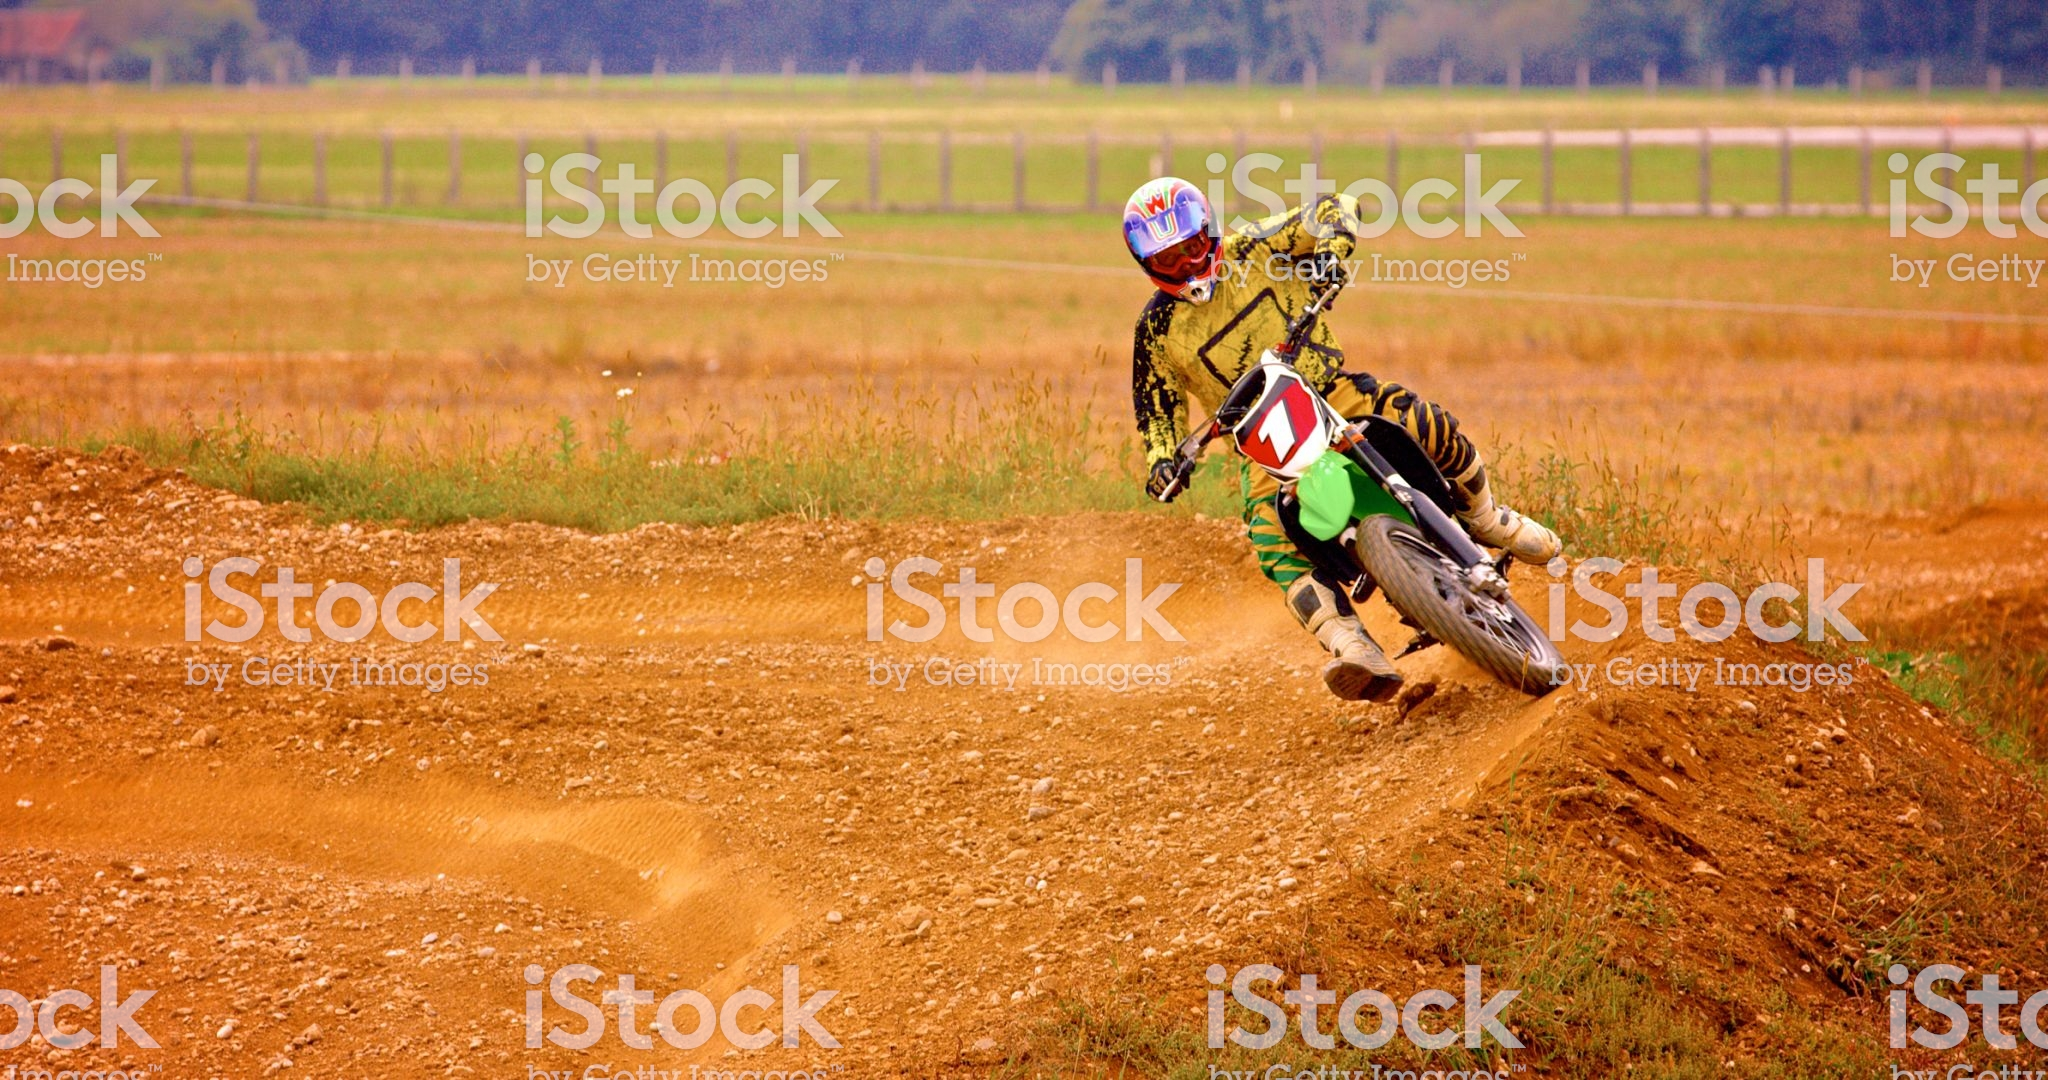helmet: (1115, 186, 1224, 295)
